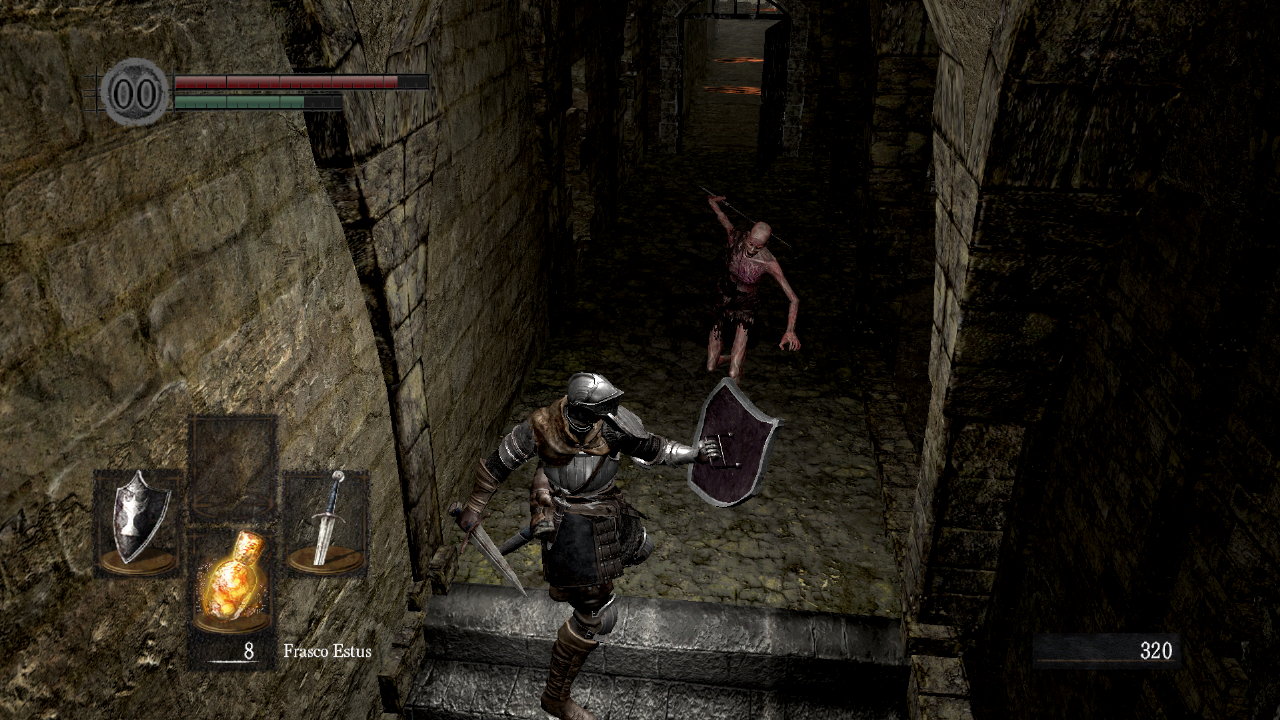hollow: (697, 184, 801, 389)
player: (448, 370, 786, 720)
